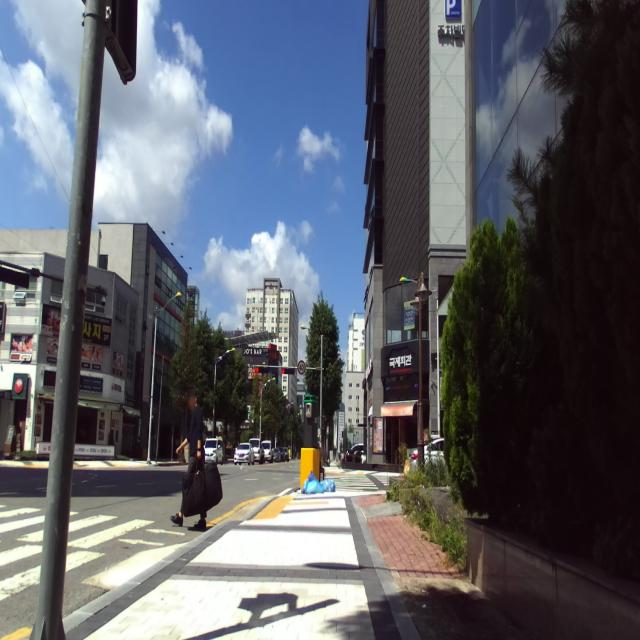횡단보도: (1, 494, 181, 607), (324, 474, 390, 492)
